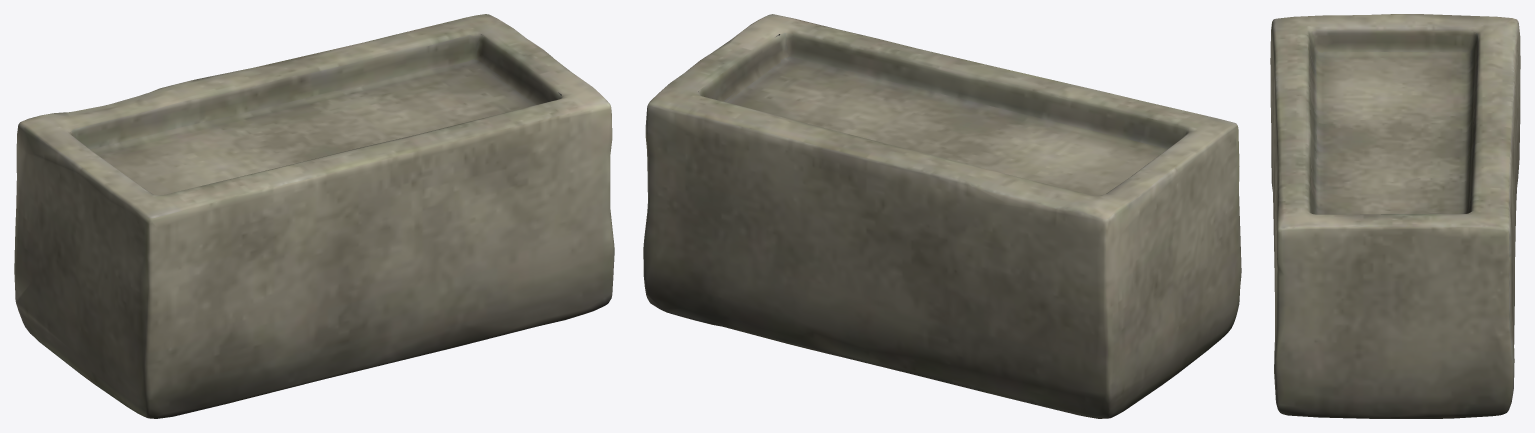
The model's file is plain-limestone-trough-v001.glb.
The picture shows the model from 3 angles, left to right: view 1: azimuth 30°, elevation 25°; view 2: azimuth 150°, elevation 25°; view 3: azimuth 270°, elevation 25°; orthographic projection. The views are drawn at different scales.
Parts seen in each view (by area): view 1: plain-limestone-trough; view 2: plain-limestone-trough; view 3: plain-limestone-trough.
Boxes of the visible parts, x1,y1,x2,y2 form: plain-limestone-trough: (14, 14, 614, 418); plain-limestone-trough: (643, 14, 1241, 418); plain-limestone-trough: (1270, 14, 1520, 418).
Bounding box in the file's own units: 1.51 × 0.6599 × 0.7499.
1 material, 1 textured.
